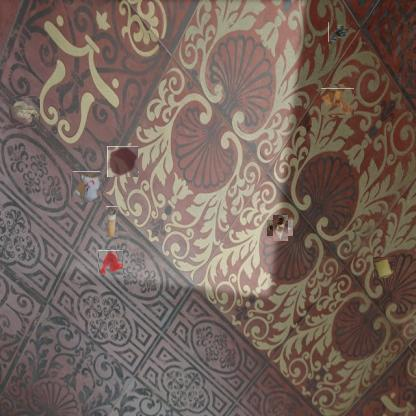dirty: (322, 86, 353, 117), (72, 172, 101, 202), (10, 97, 38, 127), (269, 218, 291, 238), (328, 22, 349, 42), (374, 257, 394, 278), (106, 206, 118, 237)
liquid: (107, 146, 138, 177), (98, 250, 123, 275)
